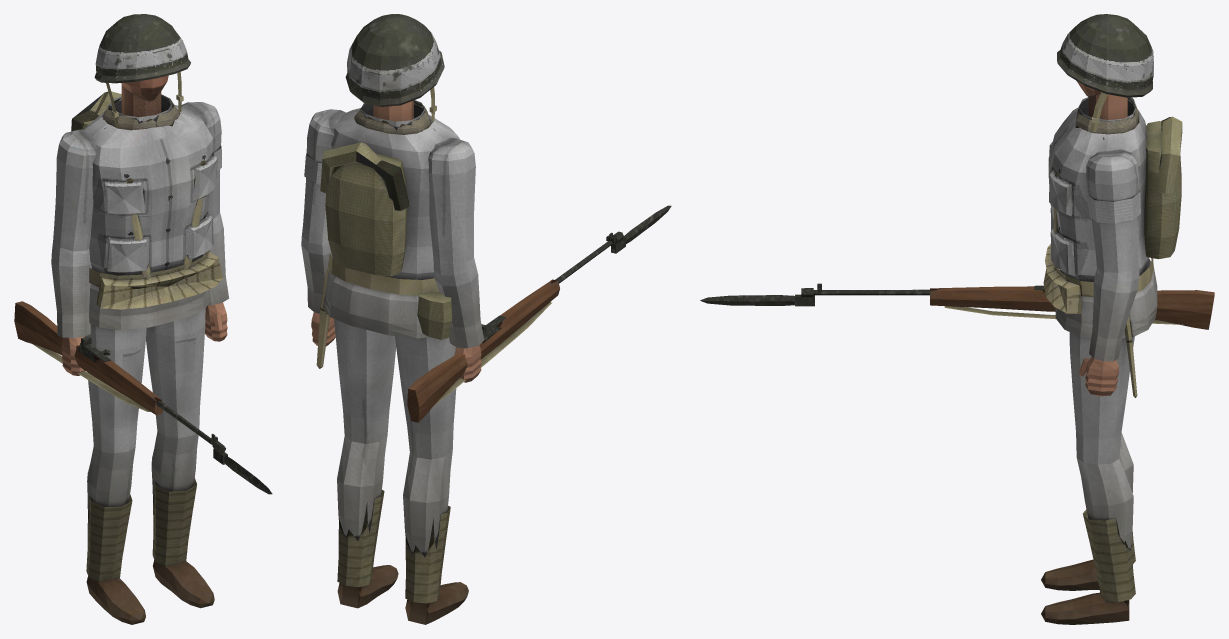
File: riflemen.glb
3 renders of one model, left to right at view 1: azimuth 30°, elevation 25°; view 2: azimuth 150°, elevation 25°; view 3: azimuth 270°, elevation 25°, orthographic. The views are drawn at different scales.
Visible parts, largest first — view 1: riflemen_LOD0; view 2: riflemen_LOD0; view 3: riflemen_LOD0.
Part boxes in pixels (x1,y1,x2,y2): riflemen_LOD0: (14,14,272,624); riflemen_LOD0: (301,14,671,624); riflemen_LOD0: (700,14,1214,624).
Size of what is drawn, in the model's own units: 0.539 by 1.77 by 1.41.
1 material, 1 textured.
